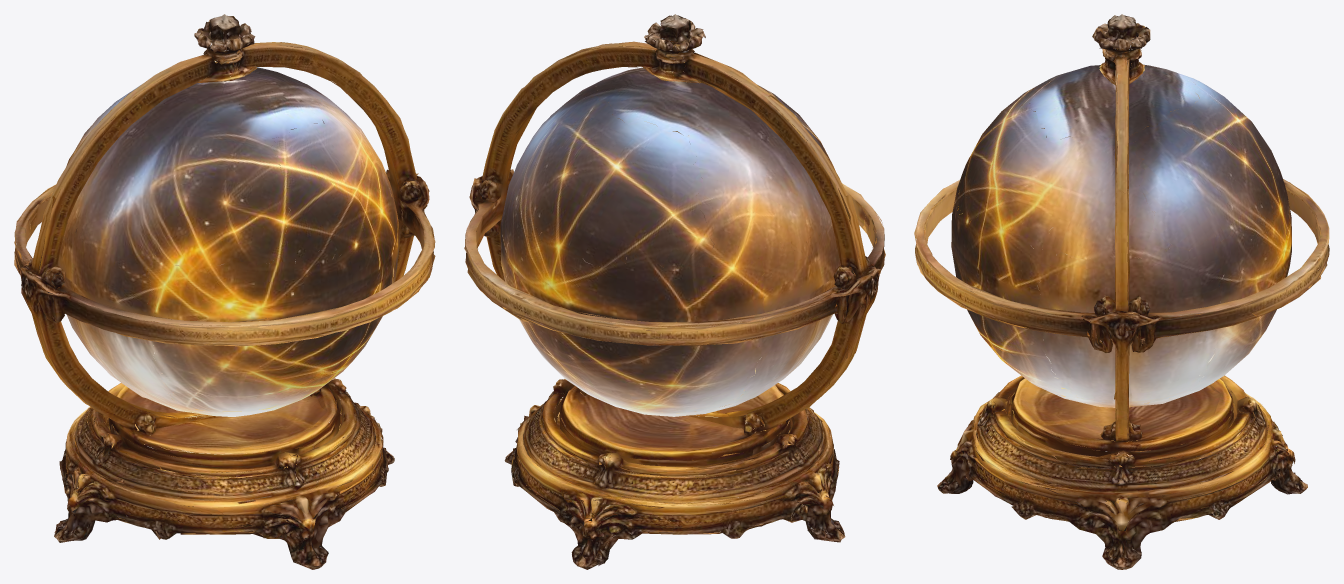
3 renders of one model, left to right at view 1: azimuth 30°, elevation 25°; view 2: azimuth 150°, elevation 25°; view 3: azimuth 270°, elevation 25°, orthographic. The views are drawn at different scales.
Parts seen in each view (by area): view 1: world, body; view 2: world, body; view 3: world, body.
Part boxes in pixels (x1,y1,x2,y2): world: (58,67,399,416); body: (14,14,435,569); world: (500,67,840,416); body: (464,14,885,569); world: (951,64,1291,407); body: (914,14,1329,569).
Size of the model in its own units: 0.8373 by 0.9819 by 0.7733.
Materials: 1 (1 with a texture image).
